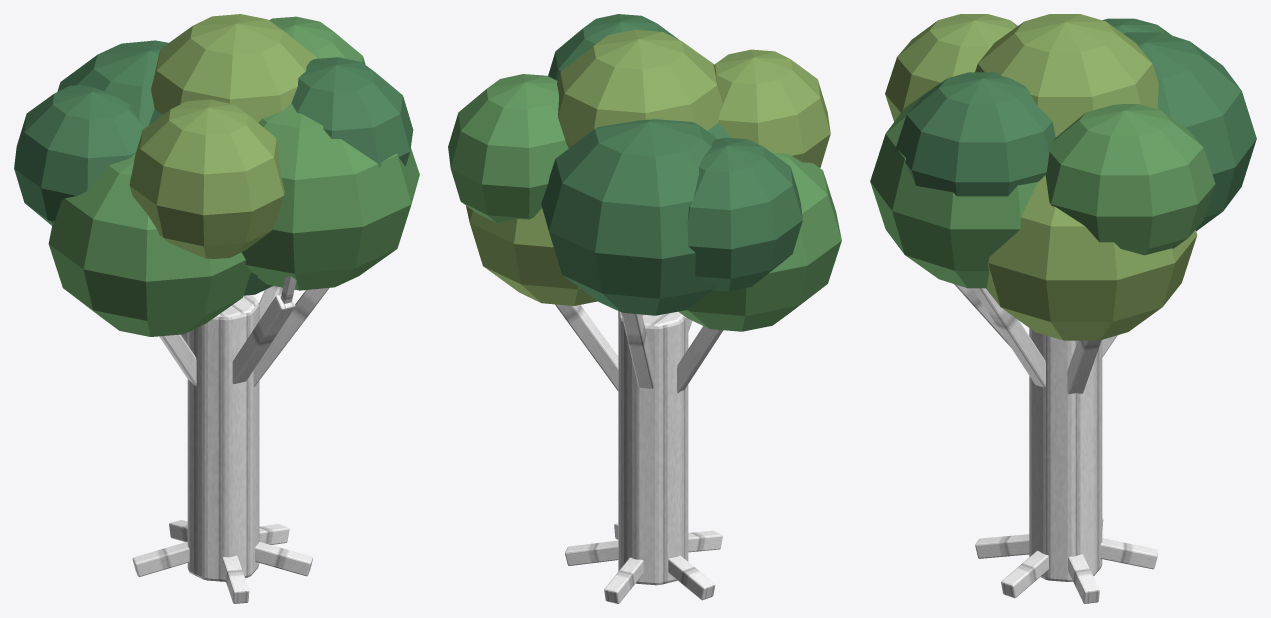
Rendered from young_tree.glb.
The picture shows the model from 3 angles, left to right: view 1: azimuth 30°, elevation 25°; view 2: azimuth 150°, elevation 25°; view 3: azimuth 270°, elevation 25°; orthographic projection. The views are drawn at different scales.
Visible parts, largest first — view 1: YoungOak_Geometry; view 2: YoungOak_Geometry; view 3: YoungOak_Geometry.
Boxes of the visible parts, x1=… form: YoungOak_Geometry: x1=14, y1=14, x2=419, y2=603; YoungOak_Geometry: x1=448, y1=14, x2=841, y2=603; YoungOak_Geometry: x1=870, y1=14, x2=1256, y2=603.
Size of the model in its own units: 2.39 by 3.69 by 2.34.
5 materials, 2 textured.
